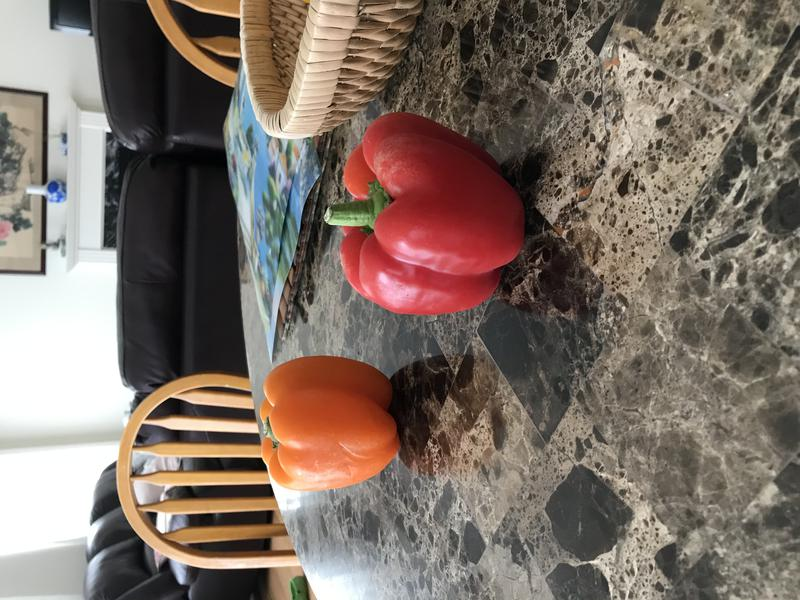orange_pepper: (255, 349, 416, 496)
red_pepper: (319, 110, 531, 322)
